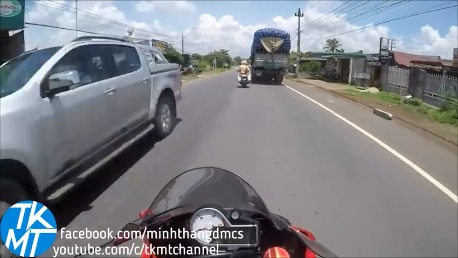police: (234, 58, 253, 89)
